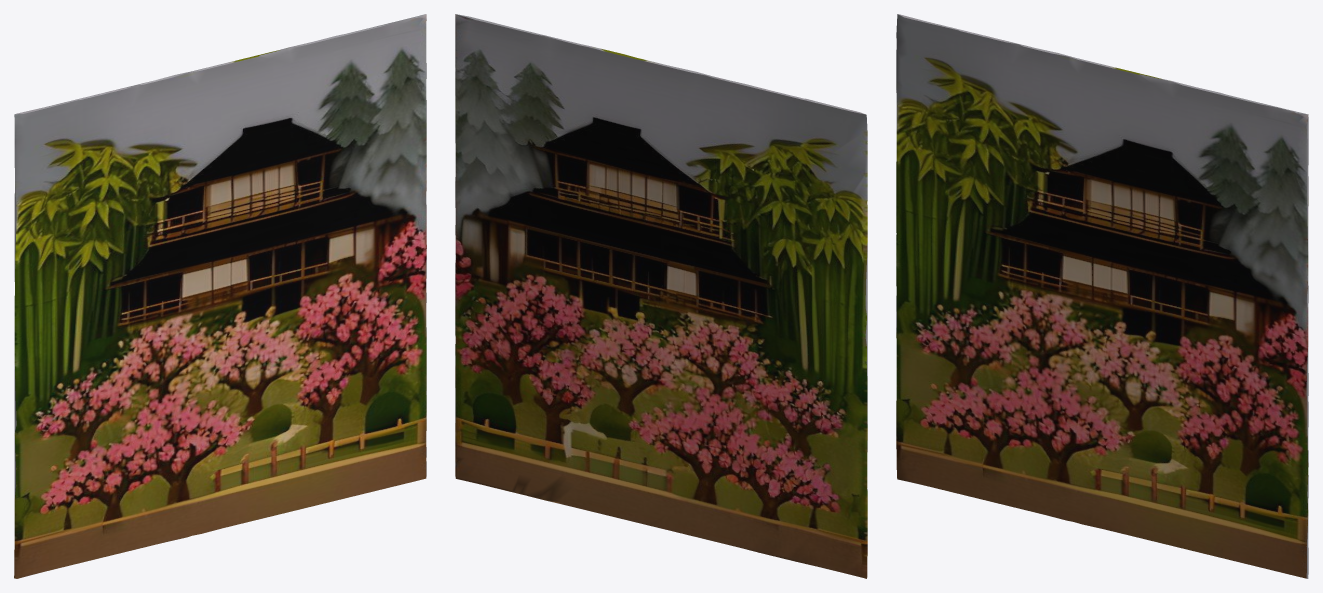
File: kairakuen.glb
3 views of the same model, side by side, from view 1: azimuth 30°, elevation 25°; view 2: azimuth 150°, elevation 25°; view 3: azimuth 330°, elevation 25° (orthographic).
Parts seen in each view (by area): view 1: logan-textured.obj; view 2: logan-textured.obj; view 3: logan-textured.obj.
Part boxes in pixels (left/top/right/bottom): logan-textured.obj: left=14, top=14, right=426, bottom=578; logan-textured.obj: left=455, top=14, right=867, bottom=578; logan-textured.obj: left=896, top=14, right=1308, bottom=578.
Bounding box in the file's own units: 0.9283 × 1 × 0.0063.
1 material, 1 textured.
